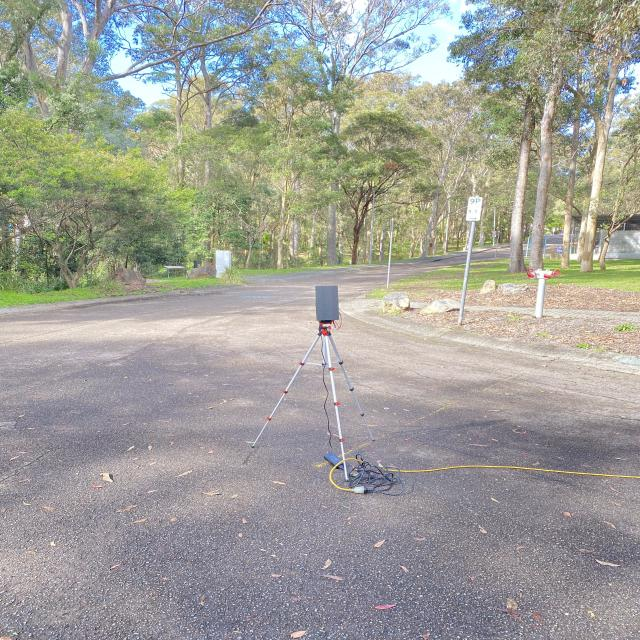matrix: (310, 284, 345, 323)
